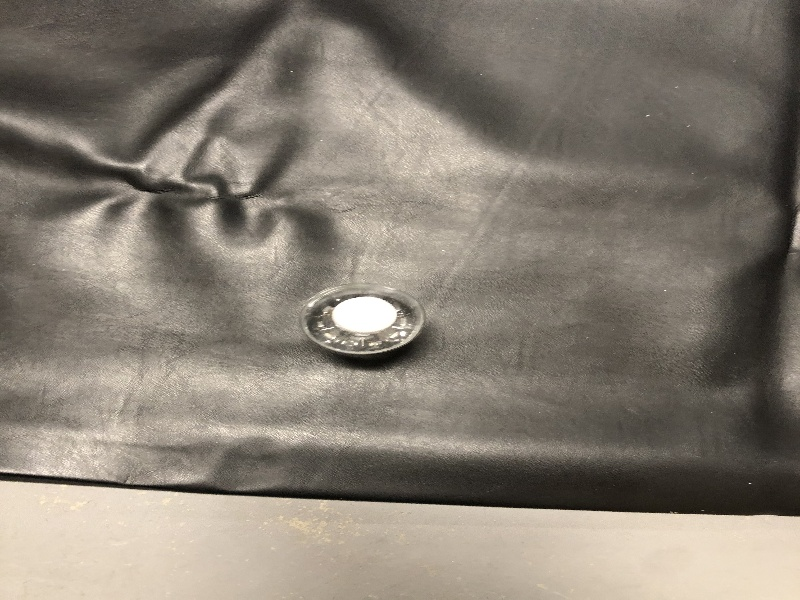plastic: (295, 271, 433, 375)
